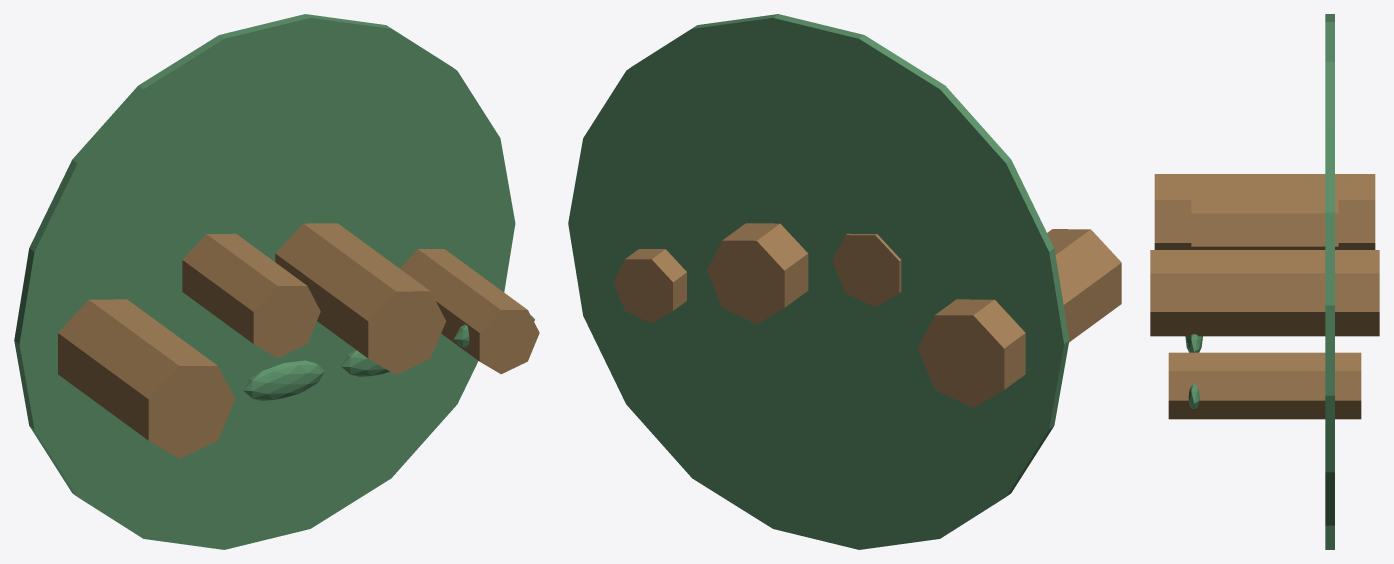
The model's file is 02_local_prop_cluster.glb.
The picture shows the model from 3 angles, left to right: view 1: azimuth 30°, elevation 25°; view 2: azimuth 150°, elevation 25°; view 3: azimuth 270°, elevation 25°; orthographic projection. The views are drawn at different scales.
Parts seen in each view (by area): view 1: scatter_base, root_stump_0, root_stump_2, root_stump_1, root_stump_3, moss_1, moss_2; view 2: scatter_base, root_stump_0, root_stump_2, root_stump_3, root_stump_1; view 3: root_stump_2, root_stump_3, root_stump_0, root_stump_1, scatter_base.
Part boxes in pixels (left/top/right/bottom): scatter_base: left=14, top=14, right=515, bottom=549; root_stump_0: left=58, top=299, right=234, bottom=458; root_stump_2: left=275, top=223, right=445, bottom=374; root_stump_1: left=182, top=233, right=320, bottom=357; root_stump_3: left=400, top=249, right=539, bottom=374; moss_1: left=243, top=360, right=324, bottom=400; moss_2: left=341, top=350, right=390, bottom=376; scatter_base: left=568, top=14, right=1069, bottom=549; root_stump_0: left=917, top=229, right=1121, bottom=408; root_stump_2: left=706, top=223, right=808, bottom=324; root_stump_3: left=613, top=249, right=686, bottom=323; root_stump_1: left=832, top=233, right=901, bottom=307; root_stump_2: left=1150, top=250, right=1379, bottom=336; root_stump_3: left=1168, top=352, right=1361, bottom=419; root_stump_0: left=1154, top=174, right=1375, bottom=249; root_stump_1: left=1191, top=193, right=1338, bottom=249; scatter_base: left=1325, top=14, right=1334, bottom=549.
Size of the model in its own units: 1.9 by 1.87 by 0.809.
